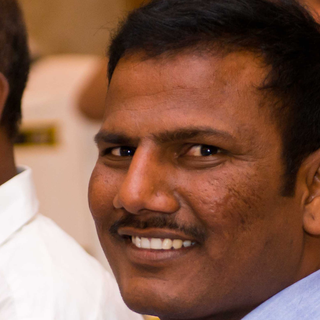eye: (175, 138, 232, 167), (100, 140, 141, 165)
